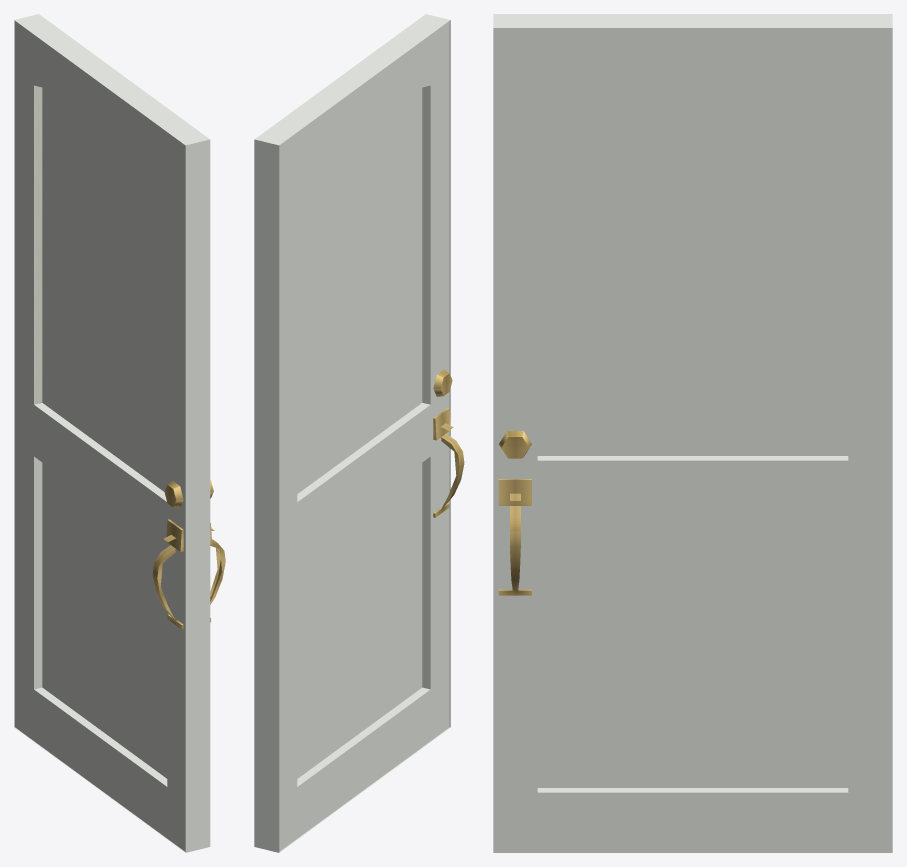
The model's file is Puerta.obj.
3 renders of one model, left to right at view 1: azimuth 30°, elevation 25°; view 2: azimuth 150°, elevation 25°; view 3: azimuth 270°, elevation 25°, orthographic. The views are drawn at different scales.
Parts seen in each view (by area): view 1: polySurface373; view 2: polySurface373; view 3: polySurface373.
Part boxes in pixels (box(x1,y1,x2,y2)): polySurface373: box(14, 14, 225, 852); polySurface373: box(254, 14, 464, 852); polySurface373: box(493, 14, 892, 852).
Size of the model in its own units: 8.31 by 82 by 36.
Materials: 4 (4 with a texture image).
